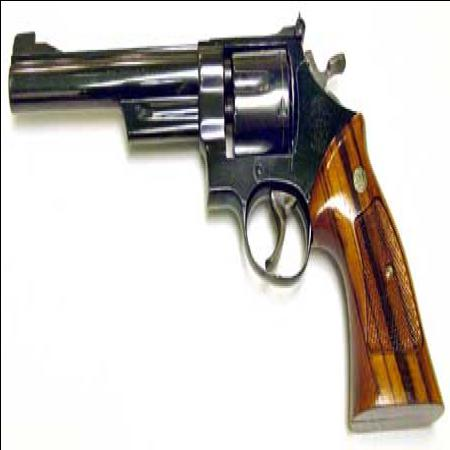Pistol: (8, 10, 446, 432)
